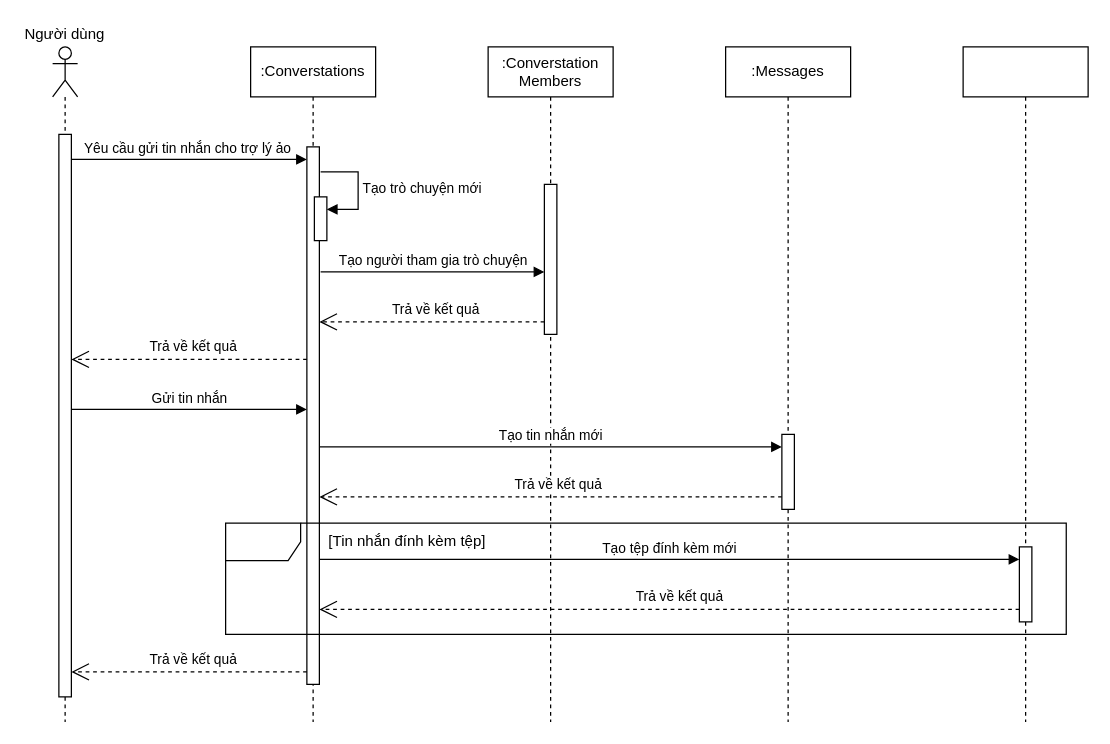
The diagram is 1110 pixels wide and 744 high, and some of its shapes have lost their labels. Each missing label, with the box of its shape:
:Coversation Attachments: (962, 46, 1088, 722)
Opt: (224, 522, 1066, 634)
